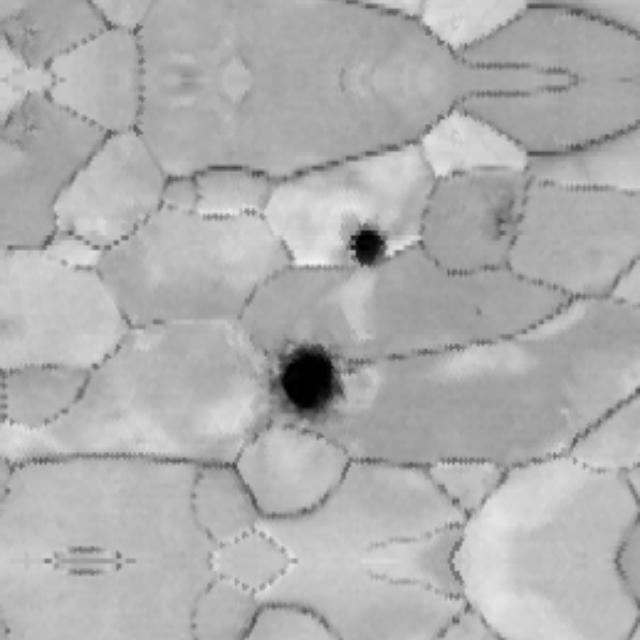good_void: (273, 343, 353, 418), (344, 221, 393, 277), (480, 186, 523, 244), (468, 302, 484, 319)
